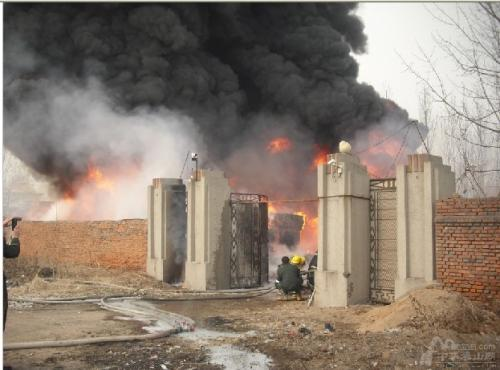fire: (263, 149, 323, 256)
smoke: (29, 4, 362, 133)
